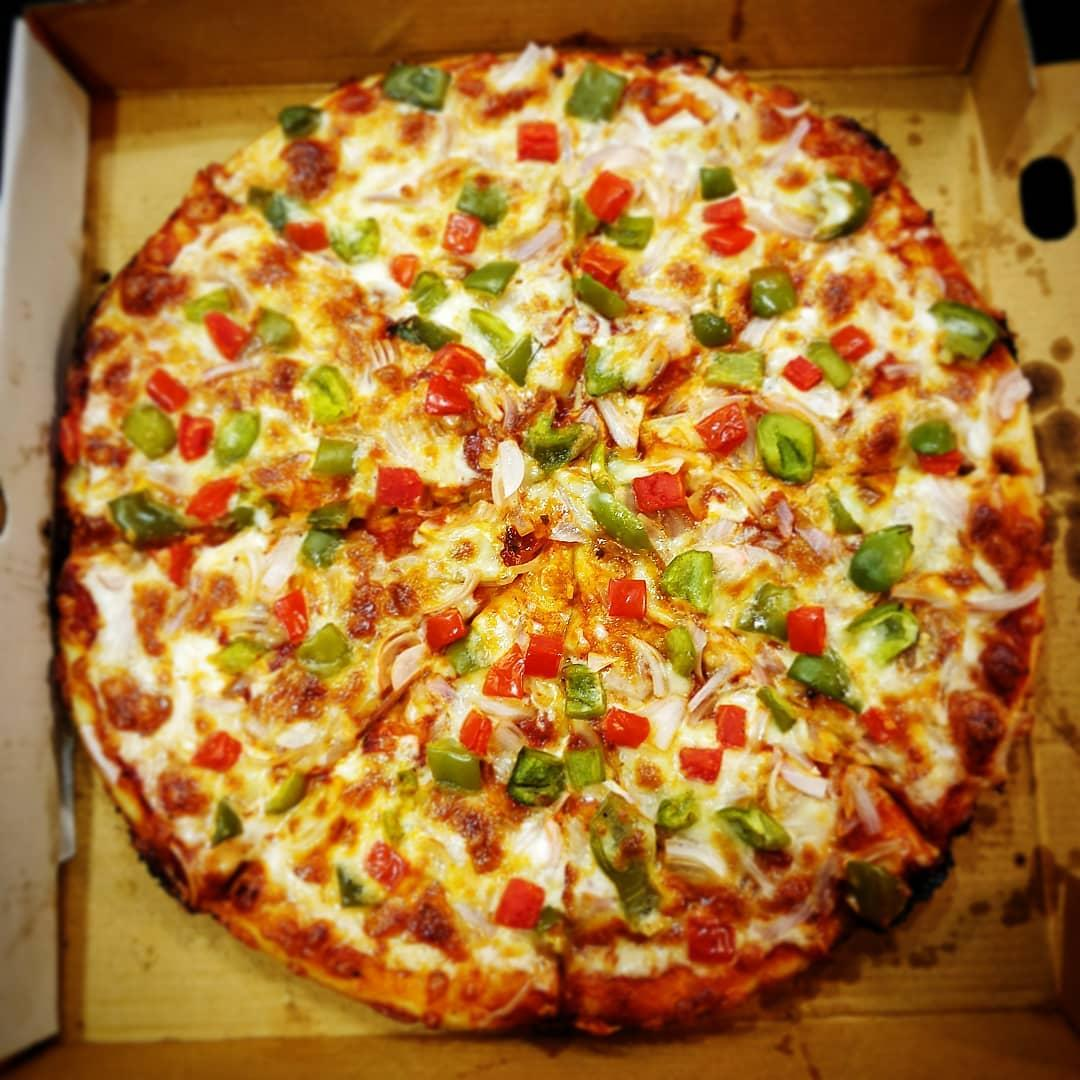Peppers: (932, 296, 1004, 364), (783, 656, 868, 712), (471, 308, 532, 386), (526, 397, 595, 464), (850, 525, 915, 592), (848, 602, 925, 656), (756, 412, 815, 480), (657, 549, 716, 617), (110, 491, 183, 542), (565, 61, 624, 122), (720, 802, 791, 851), (738, 583, 799, 640), (816, 175, 869, 240), (588, 494, 649, 550), (384, 63, 450, 111), (507, 748, 561, 806), (125, 403, 178, 462), (302, 498, 350, 563), (425, 737, 482, 790), (305, 365, 356, 422), (296, 623, 350, 672), (747, 266, 799, 314), (458, 182, 510, 226), (707, 355, 767, 393), (213, 415, 260, 461), (575, 278, 627, 319), (566, 663, 603, 719), (333, 219, 379, 263), (211, 637, 266, 673), (469, 260, 521, 297), (310, 438, 357, 474), (264, 771, 305, 812), (565, 749, 606, 789), (664, 627, 696, 675), (659, 790, 702, 824), (611, 216, 654, 249), (212, 800, 244, 844), (693, 312, 732, 347), (699, 165, 739, 196), (281, 107, 322, 136)
Pizza: (53, 48, 1047, 1040)
Tomatoes: (425, 343, 484, 414), (693, 401, 750, 461), (492, 878, 545, 930), (183, 476, 238, 523), (586, 171, 633, 224), (482, 644, 525, 698), (578, 244, 627, 291), (205, 310, 251, 360), (632, 471, 688, 512), (146, 542, 193, 589), (687, 918, 735, 963), (376, 466, 425, 510), (192, 732, 244, 771), (786, 605, 826, 655), (147, 370, 192, 414), (603, 707, 649, 749), (525, 632, 566, 679), (702, 223, 755, 256), (367, 841, 405, 887), (424, 608, 467, 648), (607, 578, 647, 621), (178, 414, 213, 463), (275, 591, 308, 642), (518, 120, 557, 163), (459, 709, 492, 757), (444, 212, 482, 253), (782, 356, 825, 392), (680, 747, 724, 782), (831, 323, 872, 359), (286, 220, 329, 253), (914, 450, 967, 475), (699, 196, 748, 223), (717, 705, 748, 747), (389, 253, 417, 289)
